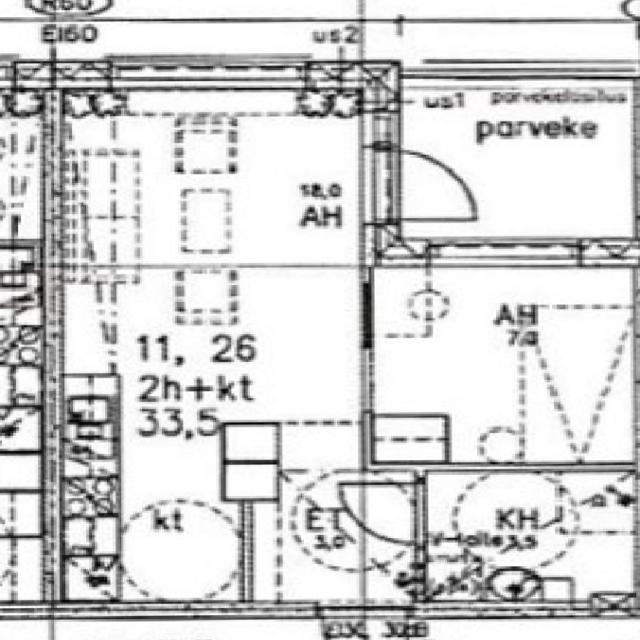door: (362, 156, 480, 222), (342, 483, 424, 543), (323, 608, 408, 640)
